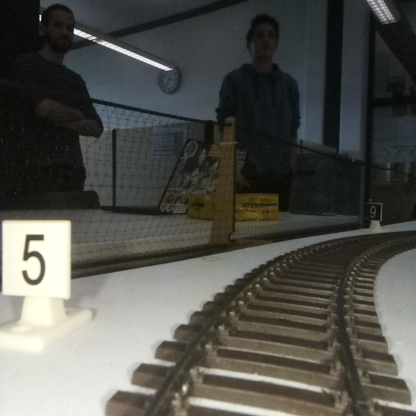black-stop-9: (366, 203, 380, 231)
white-stop-5: (3, 220, 70, 345)
